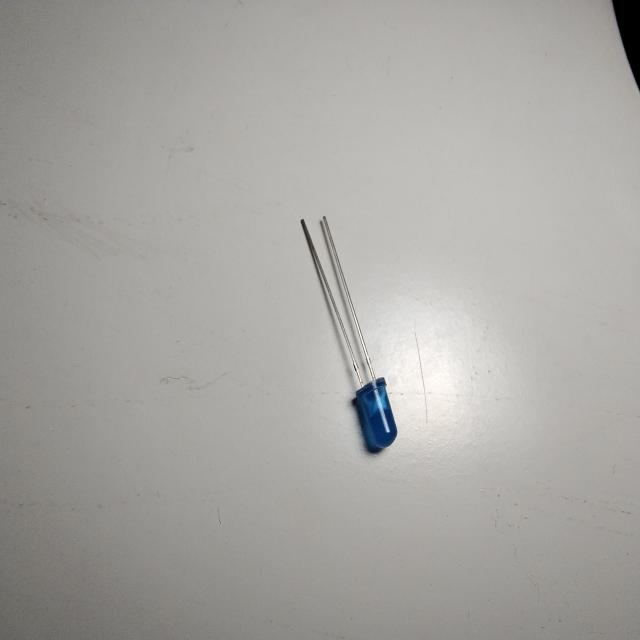blue_led: (353, 376, 398, 454)
